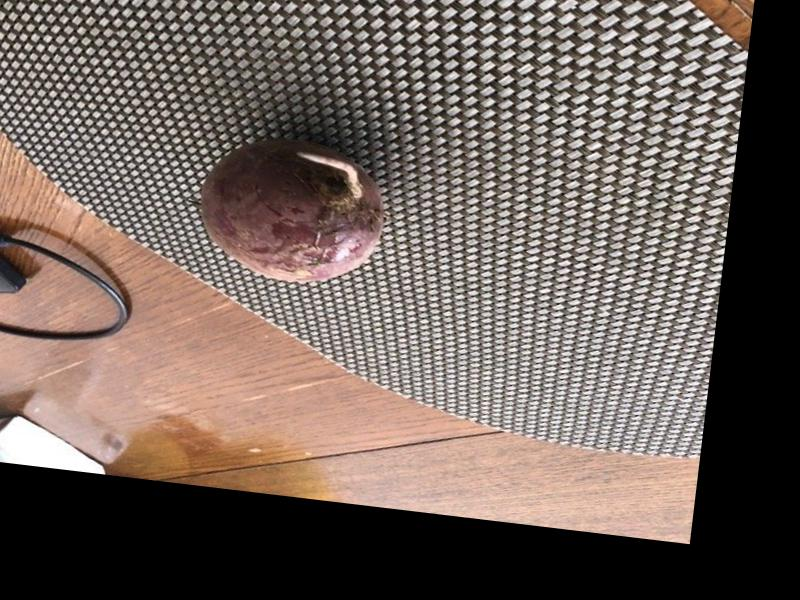Beet: (192, 130, 390, 290)
